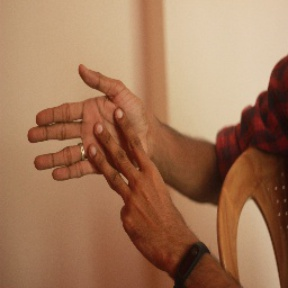M: (26, 62, 155, 192)
